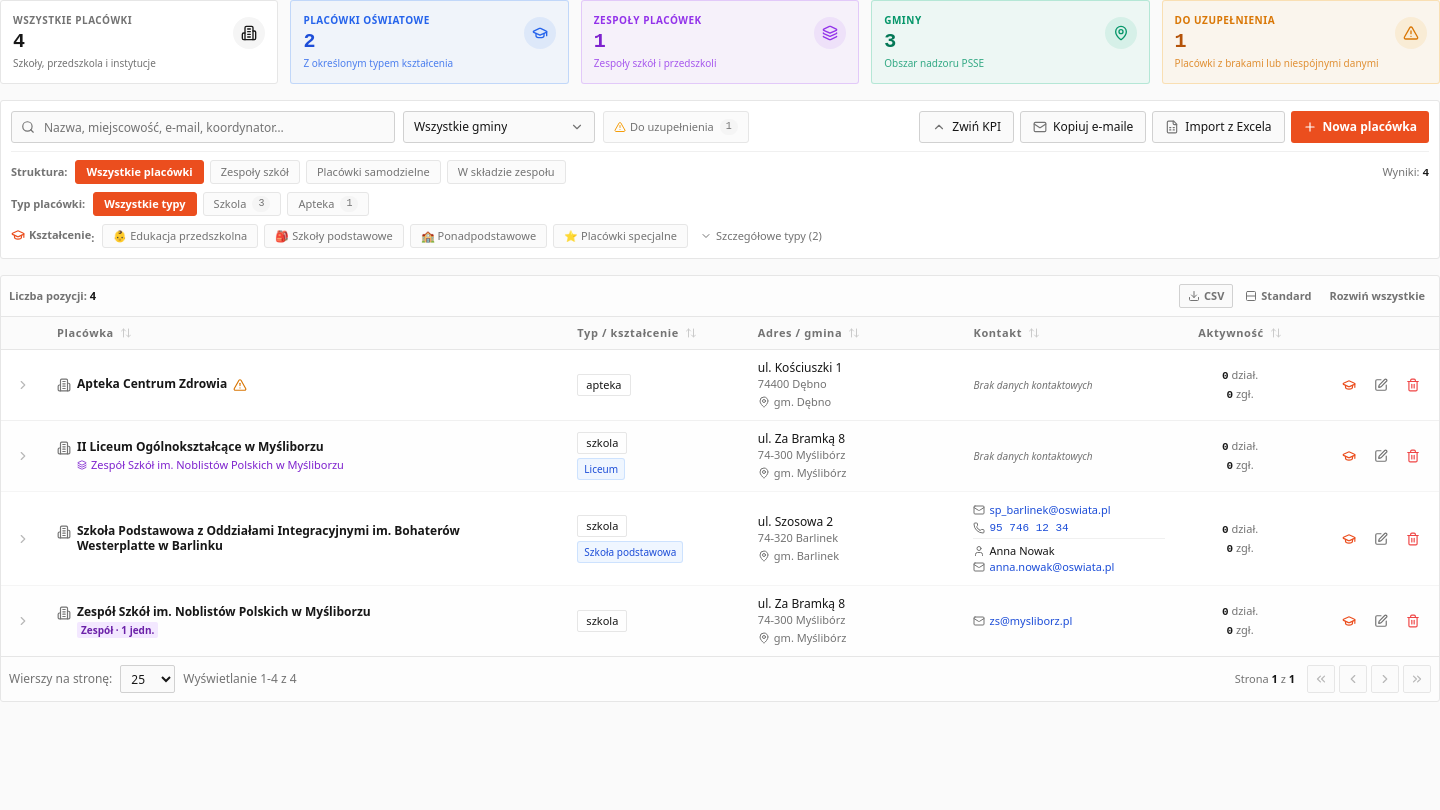
Test: FacilitiesSection › persists the KPI collapse preference
Click the button titled "Zwiń karty podsumowania KPI" at (967, 127), box [919,111,1014,143]
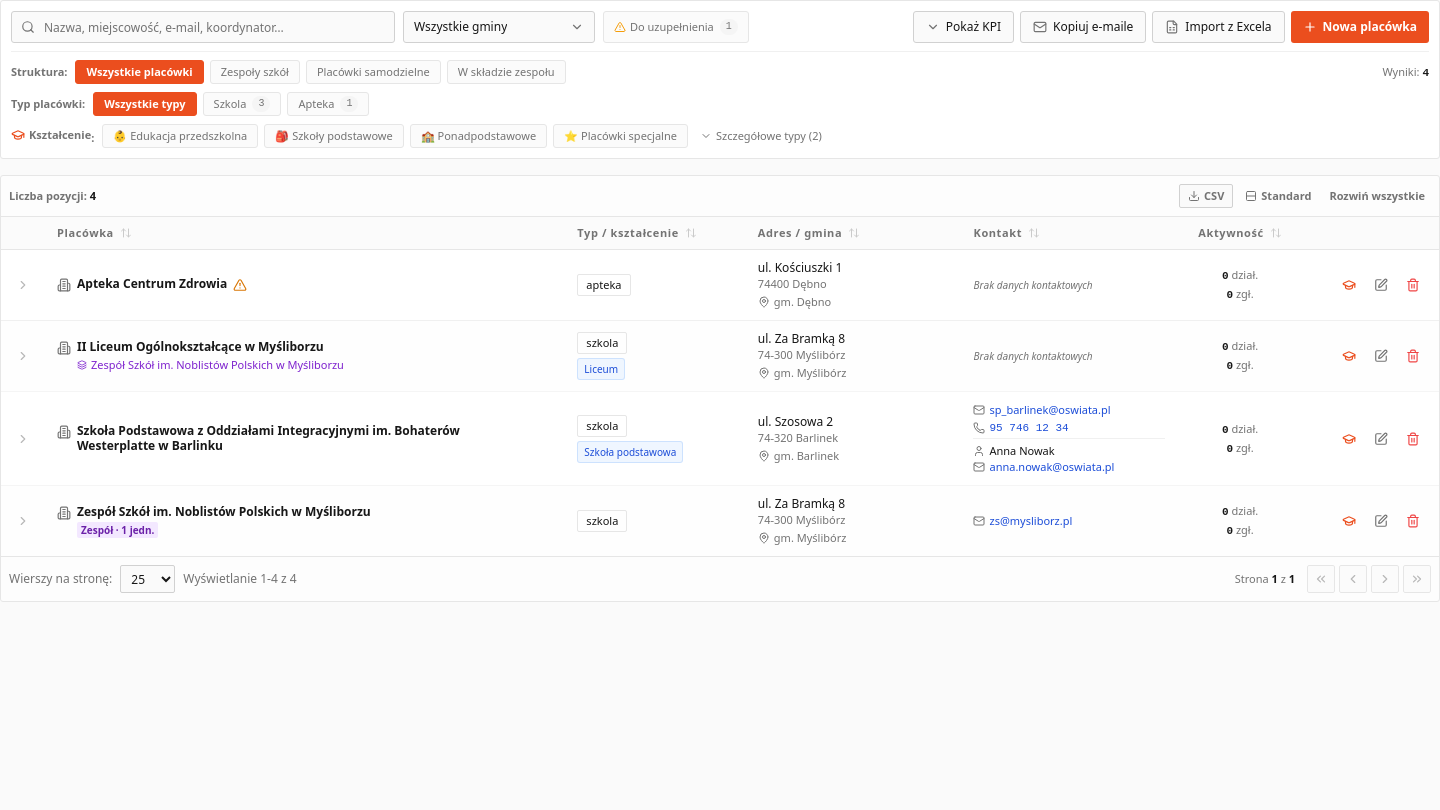
Expected: the button titled "Rozwiń karty podsumowania KPI" is shown, [913,11,1014,43]
